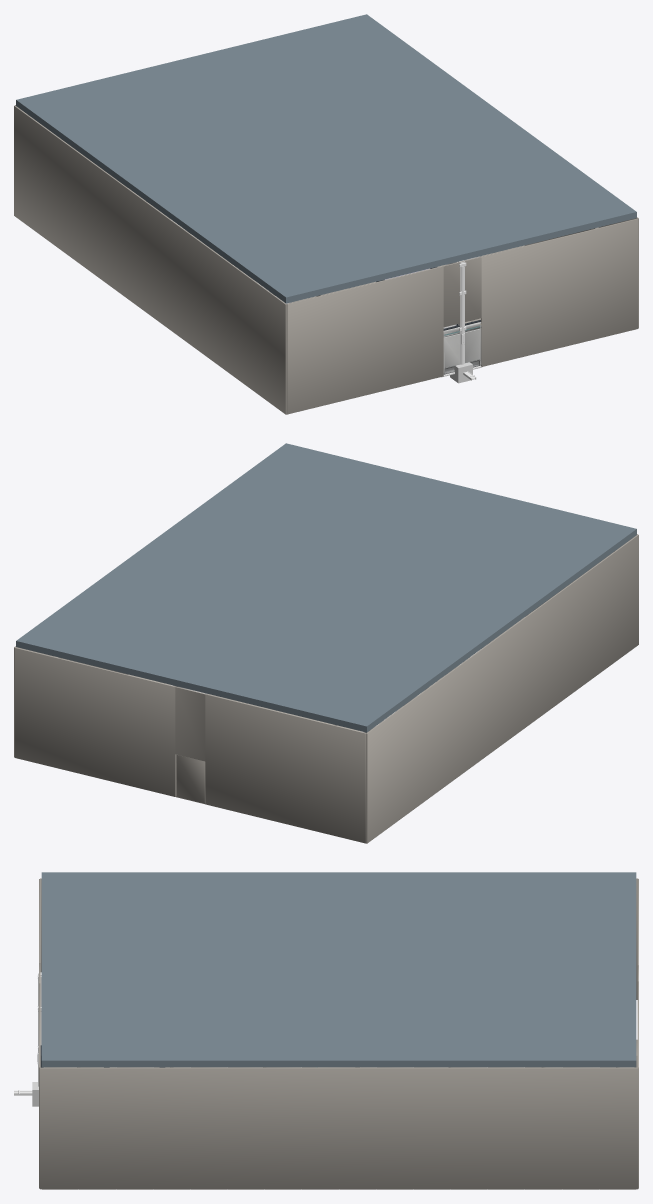
The model's file is Decon-Godot-Art.glb.
The picture shows the model from 3 angles, top to bottom: view 1: azimuth 30°, elevation 25°; view 2: azimuth 150°, elevation 25°; view 3: azimuth 270°, elevation 25°; orthographic projection. The views are drawn at different scales.
Visible parts, largest first — view 1: _MeshInstance3D_494, decon_whole_v2_authored_core, PrecisionWestServicePanels2, BatchedPrecisionServiceSpines2; view 2: _MeshInstance3D_494, decon_whole_v2_authored_core, decon_whole_v2_gate; view 3: _MeshInstance3D_494, decon_whole_v2_authored_core.
Part boxes in pixels (x1,y1,x2,y2): _MeshInstance3D_494: (16, 14, 636, 303); decon_whole_v2_authored_core: (14, 105, 638, 414); PrecisionWestServicePanels2: (443, 320, 481, 374); BatchedPrecisionServiceSpines2: (457, 260, 466, 364); _MeshInstance3D_494: (16, 443, 636, 732); decon_whole_v2_authored_core: (14, 534, 638, 843); decon_whole_v2_gate: (176, 754, 205, 803); _MeshInstance3D_494: (41, 872, 636, 1067); decon_whole_v2_authored_core: (39, 878, 638, 1189).
Size of the model in its own units: 24.18 by 8.1 by 33.63.
Materials: 54 (1 with a texture image).
